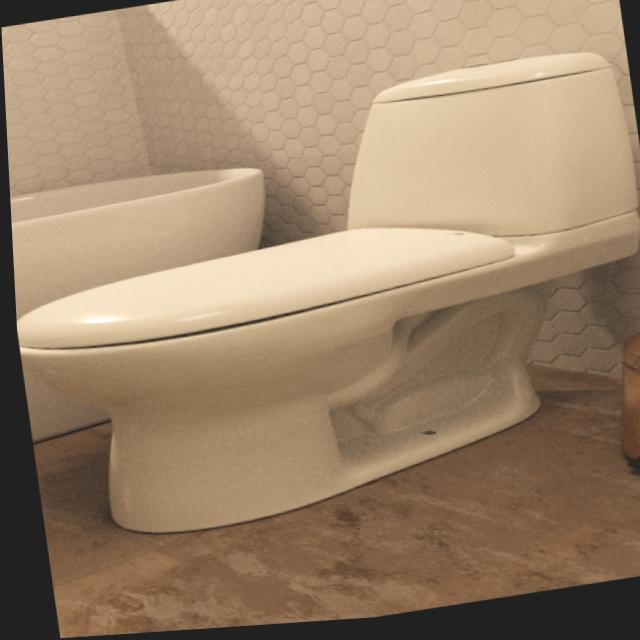toilet: (3, 48, 640, 553)
